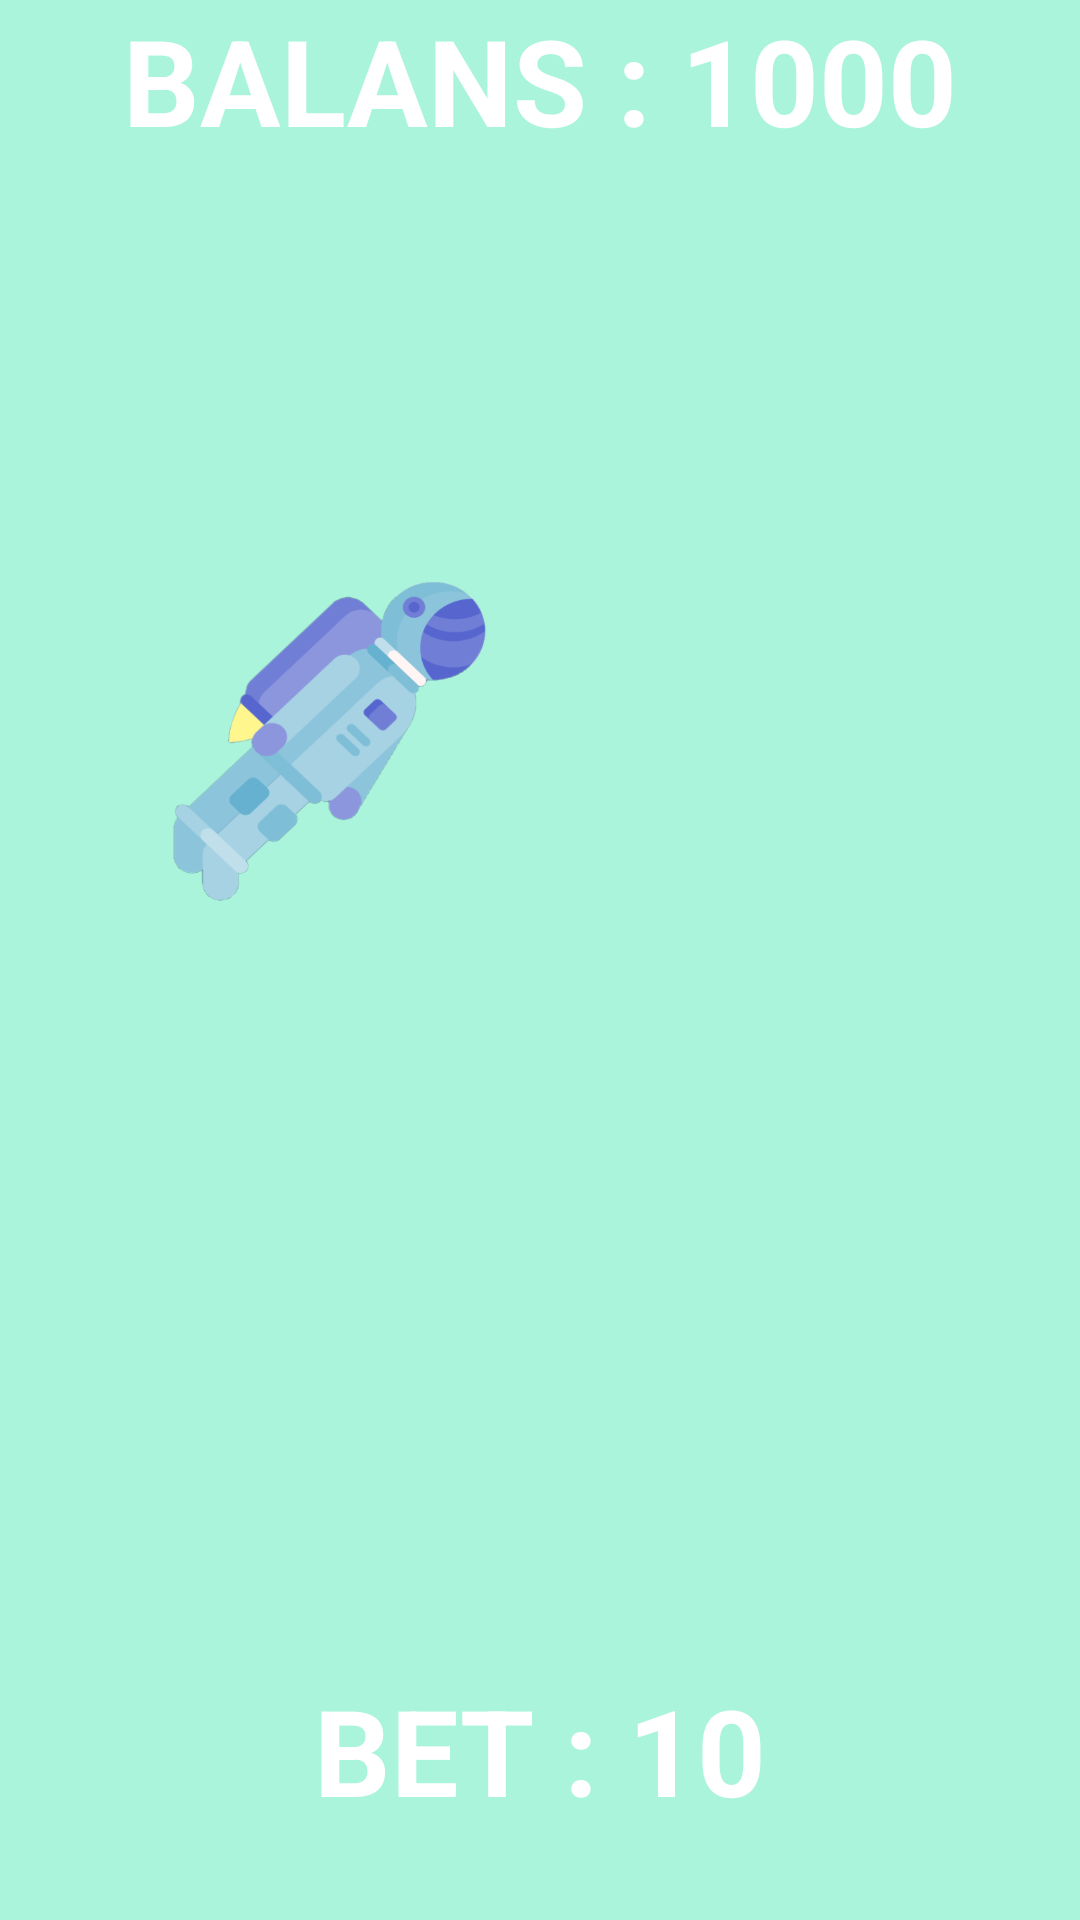

Named icons in this screenshot (1080 x 1920) and their centers, (x=x, y=y):
astranavt: (x=329, y=741)
